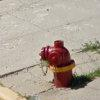Hydrant: (27, 30, 85, 90)
